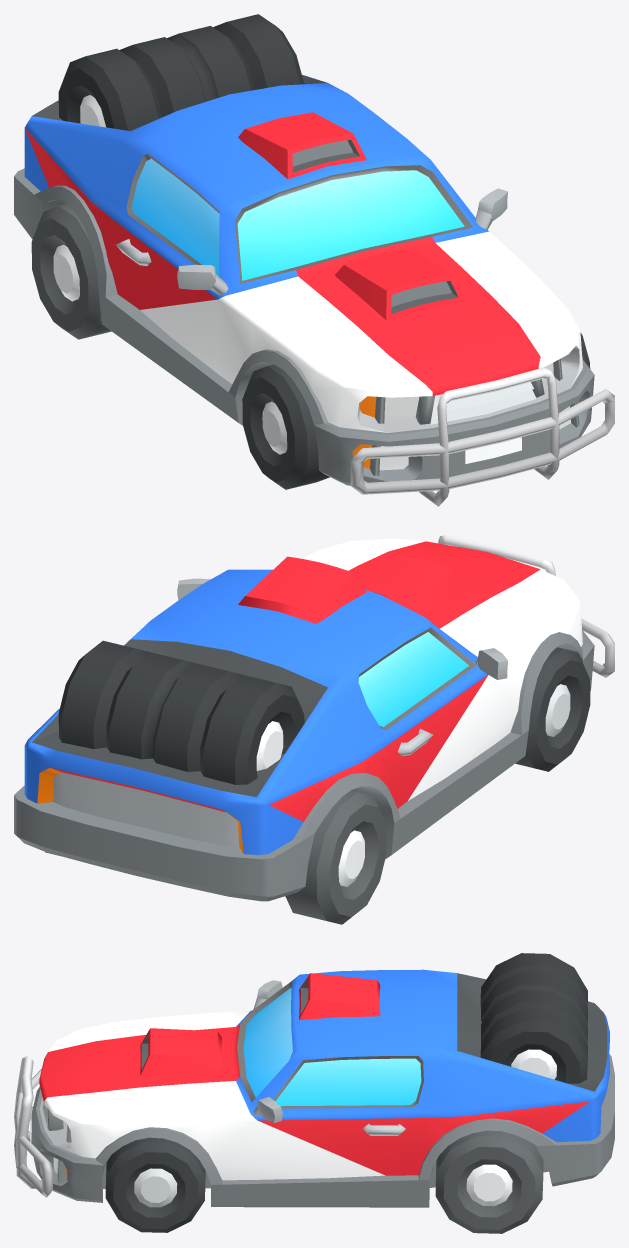
Rendered from Car_31.glb.
3 views of the same model, one above another, from view 1: azimuth 30°, elevation 25°; view 2: azimuth 150°, elevation 25°; view 3: azimuth 270°, elevation 25° (orthographic). The views are drawn at different scales.
Parts seen in each view (by area): view 1: Car_31, Wheel_058, Wheel_057; view 2: Car_31, Wheel_057, Wheel_058; view 3: Car_31, Wheel_060, Wheel_059.
Part boxes in pixels (x1,y1,x2,y2): Car_31: (14, 14, 614, 506); Wheel_058: (242, 364, 329, 489); Wheel_057: (31, 204, 111, 339); Car_31: (14, 535, 614, 901); Wheel_057: (285, 790, 386, 924); Wheel_058: (515, 647, 590, 771); Car_31: (14, 953, 614, 1207); Wheel_060: (435, 1130, 543, 1233); Wheel_059: (105, 1137, 205, 1232).
Bounding box in the file's own units: 2.49 × 1.74 × 4.87.
Materials: 2 (2 with a texture image).
